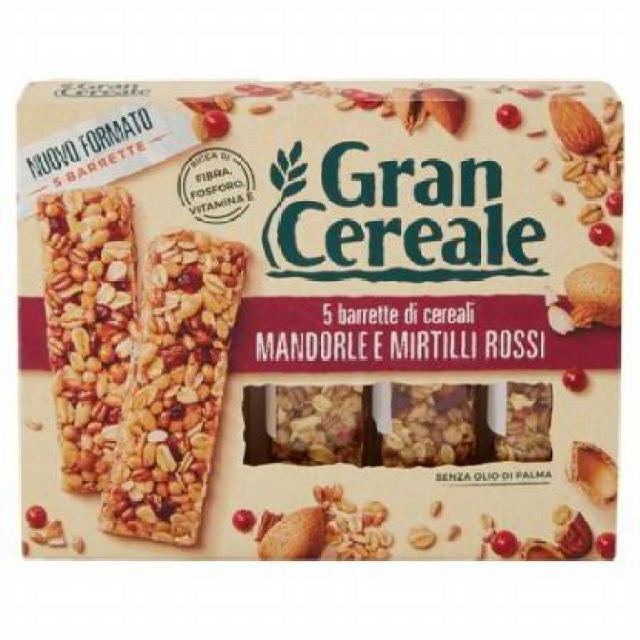Cereal bar: (11, 84, 624, 576)
